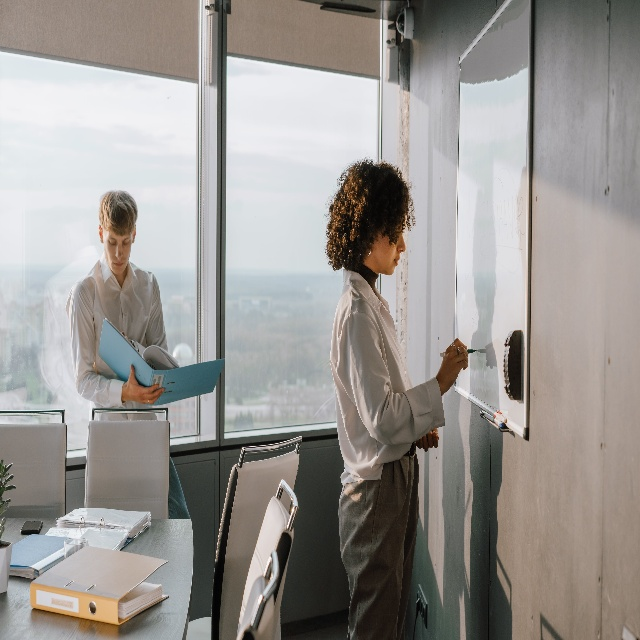Sin_guantes: (124, 364, 166, 405), (439, 338, 468, 395), (415, 427, 440, 453)
